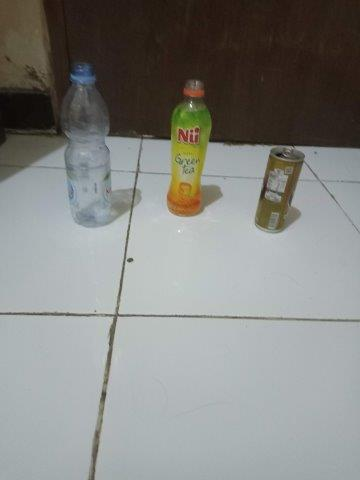botolplastik: (60, 63, 112, 227), (166, 78, 211, 218)
kaleng: (255, 146, 305, 234)
